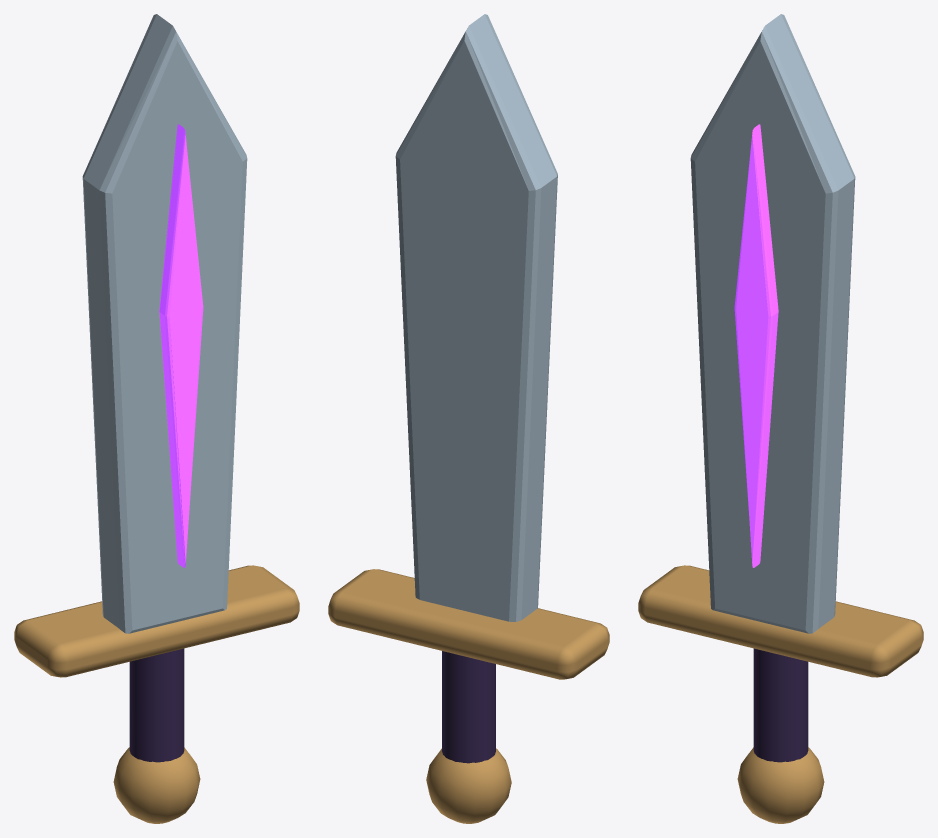
The model's file is moonsteel-convergence-runeblade-cf25f022__18205.glb.
3 renders of one model, left to right at view 1: azimuth 30°, elevation 25°; view 2: azimuth 150°, elevation 25°; view 3: azimuth 330°, elevation 25°, orthographic.
Parts seen in each view (by area): view 1: runeblade; view 2: runeblade; view 3: runeblade.
Boxes of the visible parts, x1,y1,x2,y2 form: runeblade: (14,14,299,823); runeblade: (328,14,609,823); runeblade: (638,14,923,823).
Bounding box in the file's own units: 0.5 × 1.53 × 0.179.
